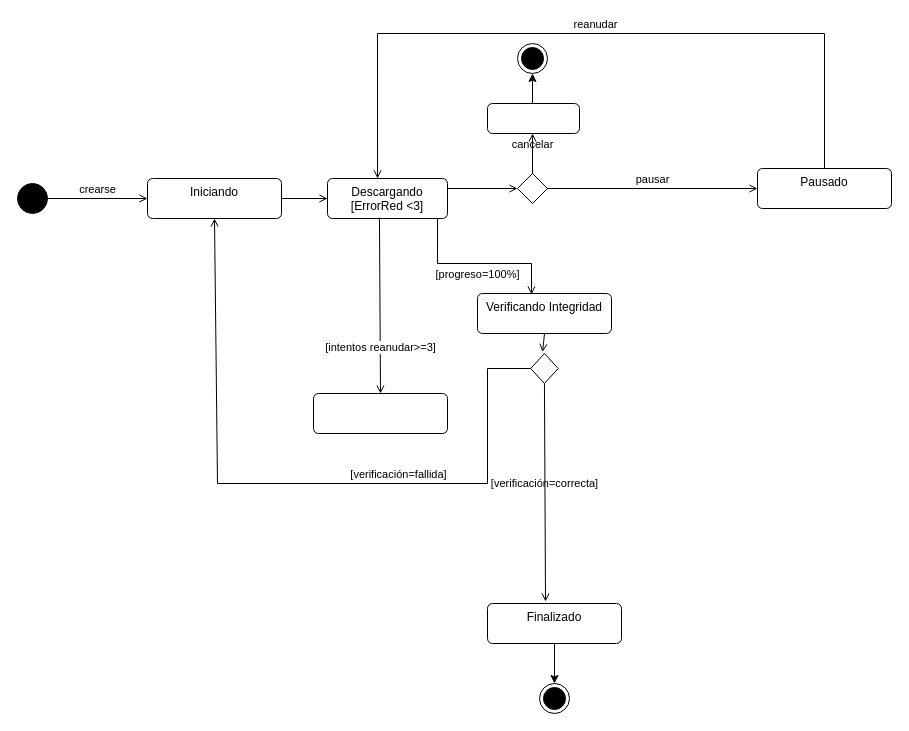
The diagram is 909 pixels wide and 731 high, and some of its shapes have lost their labels. The shapes that lost their labels are listed below. From the top down, each one's box as (x1, y1, x2, y2) in pixels, then its label:
(486, 102, 580, 134): Cancelado
(312, 392, 448, 434): ErrorCritico
